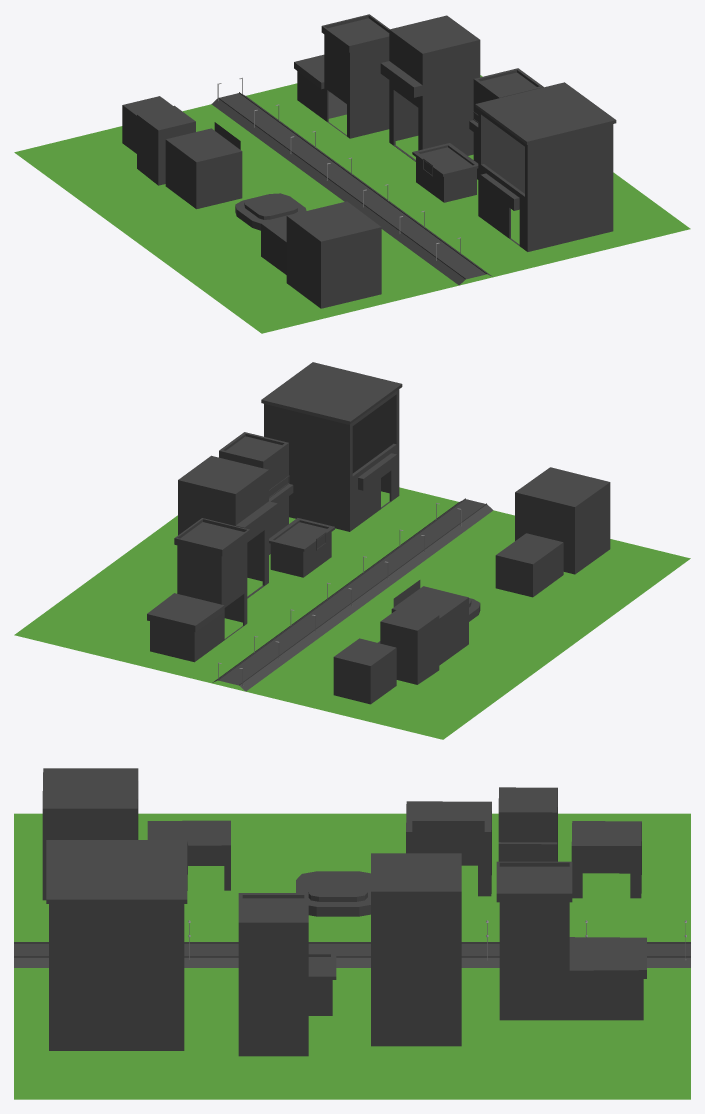
The picture shows the model from 3 angles, top to bottom: view 1: azimuth 30°, elevation 25°; view 2: azimuth 150°, elevation 25°; view 3: azimuth 270°, elevation 25°; orthographic projection. The views are drawn at different scales.
Parts seen in each view (by area): view 1: Plane.001; view 2: Plane.001; view 3: Plane.001.
Boxes of the visible parts, left/top/right/bottom form: Plane.001: left=14, top=14, right=690, bottom=333; Plane.001: left=14, top=362, right=690, bottom=739; Plane.001: left=14, top=768, right=690, bottom=1099.
Bounding box in the file's own units: 20000 × 5269 × 20000.
